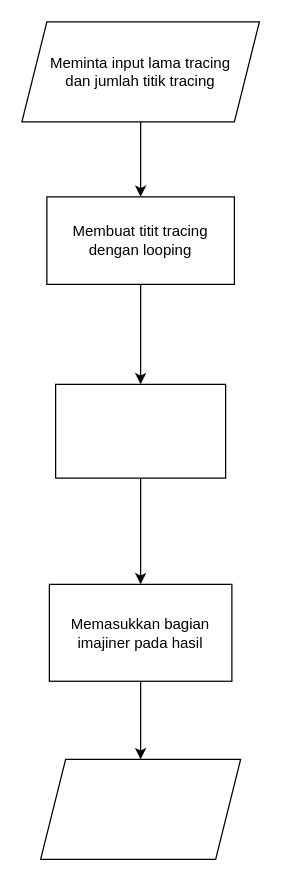
This 281x881 diagram has some shape labels left out. The centre of each missing label's shape, as x and y in pixels:
"Memberikan output" belongs at point (140, 808).
"menghitung bagian real dari fungsi" belongs at point (140, 430).
